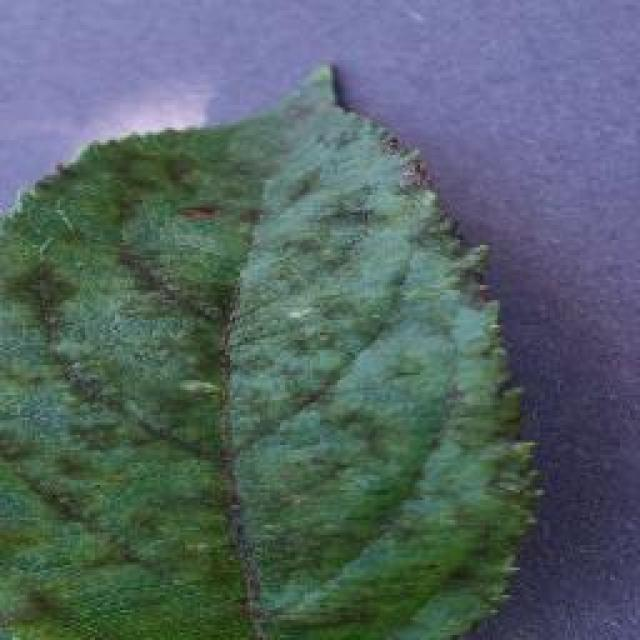apple scab disease: (0, 58, 545, 638)
